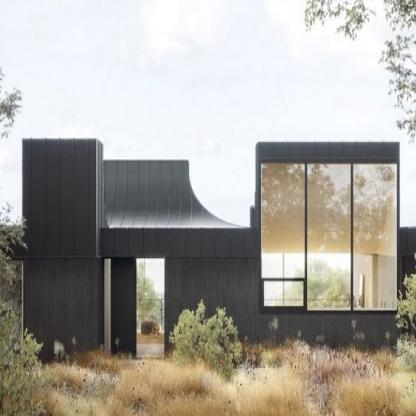Building Outline: (0, 137, 414, 369)
Door: (111, 258, 165, 358)
Facade: (0, 137, 415, 369)
Glass Wall: (353, 163, 397, 310), (307, 163, 351, 310), (261, 163, 305, 278)
Roof: (0, 138, 414, 259)
Window: (263, 282, 303, 306)
